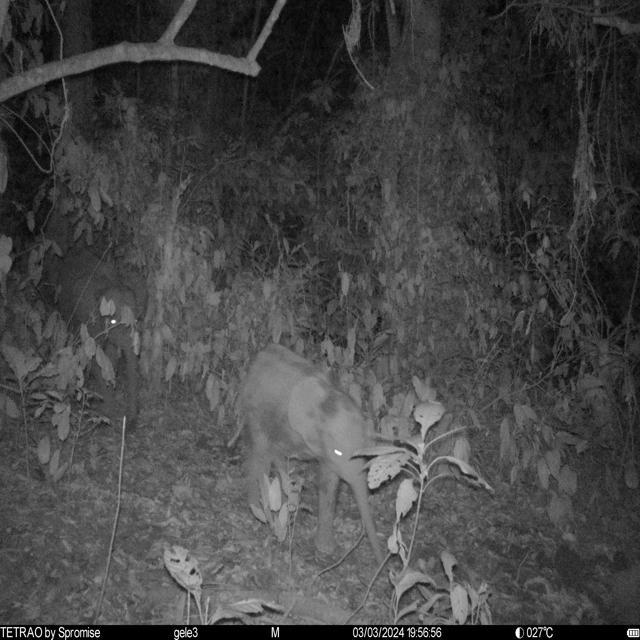calf: (222, 342, 392, 580), (56, 251, 150, 434)
ear: (286, 376, 324, 460)
